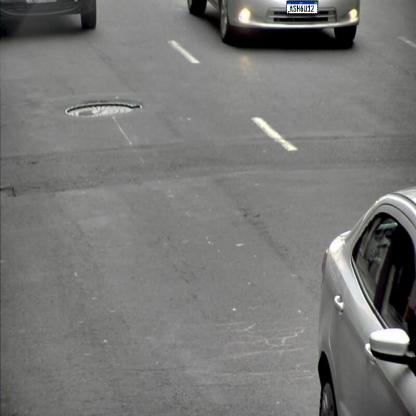PlacaM: (286, 1, 318, 14)
